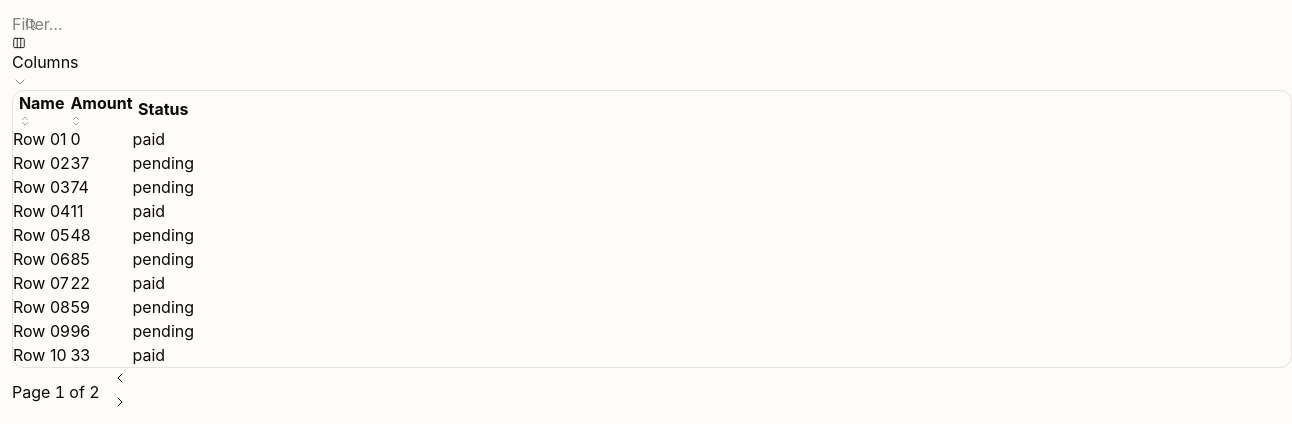
Test: DataTable › sorts ascending then descending on a sortable header
The width and height of the screenshot is (1292, 424).
Step 1. Click the button with aria-label "Sort by Amount" → (101,109), box [70,91,132,127]
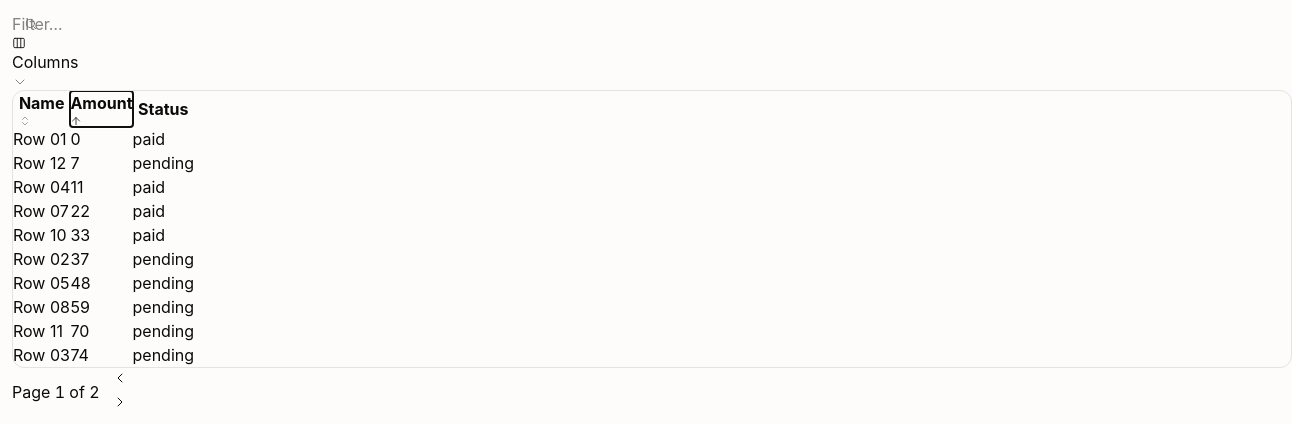
Expected: the cell "Row 01" is shown, [13,127,70,151]
Step 2. Click the button with aria-label "Sort by Amount" → (101,109), box [70,91,132,127]
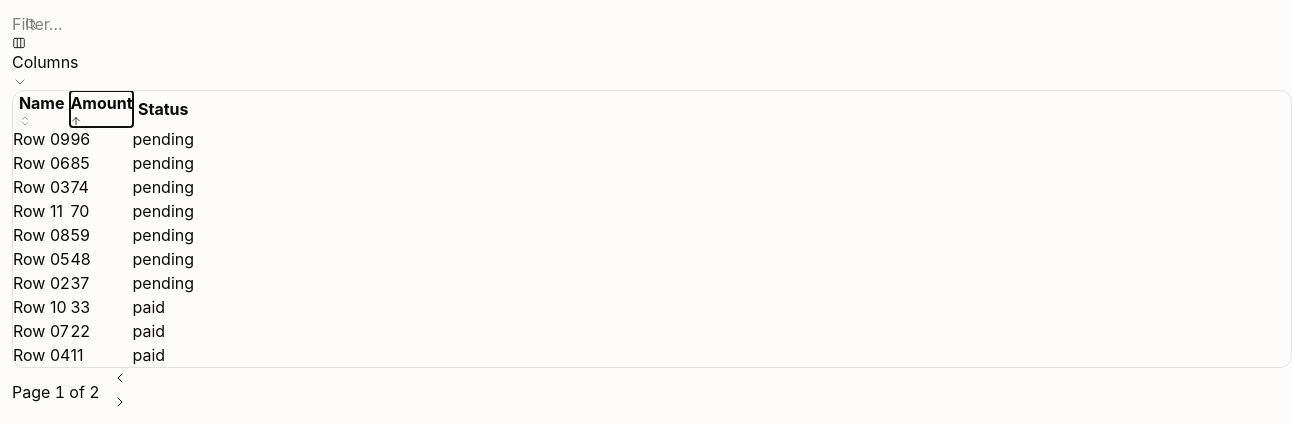
Expected: the cell "Row 09" is shown, [13,127,70,151]
